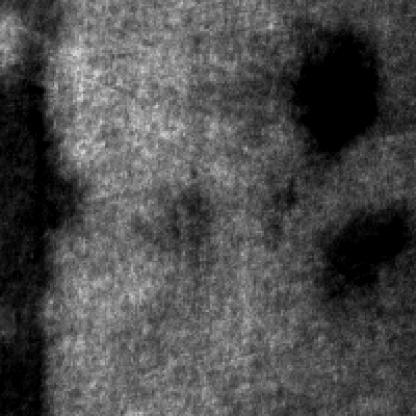patches: (0, 27, 75, 414), (278, 19, 382, 156), (320, 197, 410, 294)
